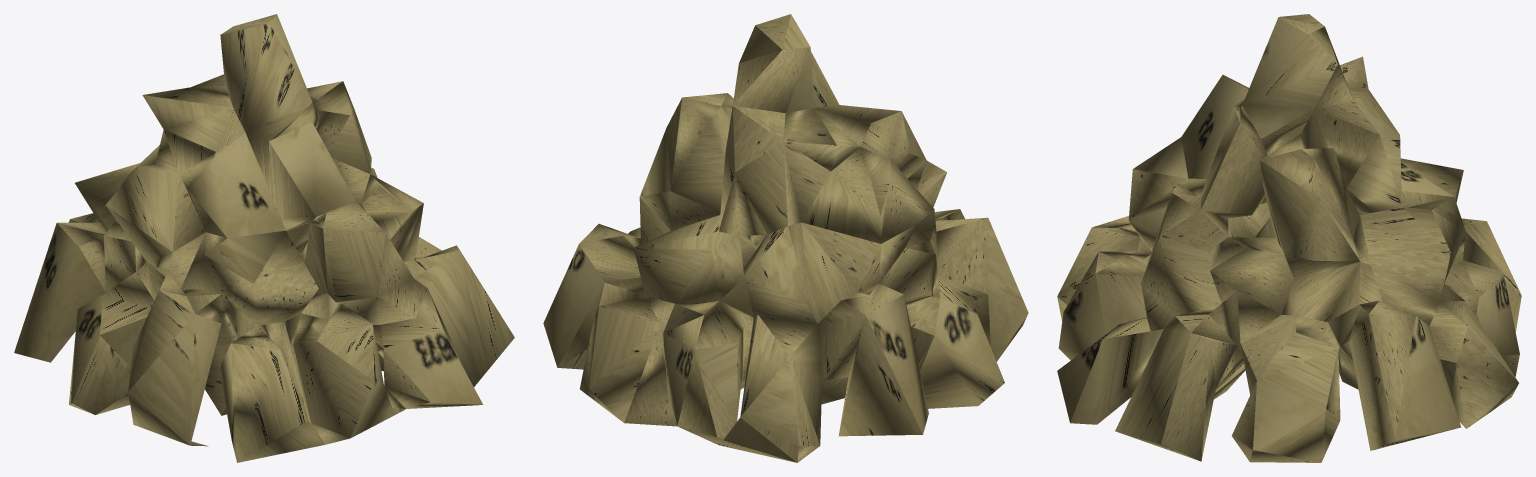
The model's file is cover_half_jungle_v6_lod1.glb.
3 renders of one model, left to right at view 1: azimuth 30°, elevation 25°; view 2: azimuth 150°, elevation 25°; view 3: azimuth 270°, elevation 25°, orthographic. The views are drawn at different scales.
Parts seen in each view (by area): view 1: Mesh_0; view 2: Mesh_0; view 3: Mesh_0.
Boxes of the visible parts, x1,y1,x2,y2 form: Mesh_0: (14, 14, 514, 462); Mesh_0: (543, 14, 1028, 462); Mesh_0: (1057, 14, 1521, 462).
Size of the model in its own units: 0.9474 by 0.7744 by 0.923.
Materials: 1 (1 with a texture image).
